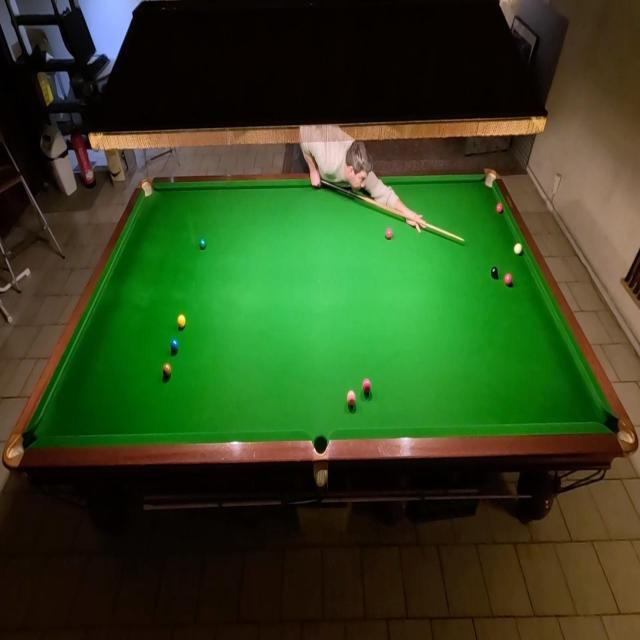Ball: (161, 361, 173, 381), (169, 336, 180, 356), (346, 388, 356, 409), (362, 376, 372, 396), (176, 312, 186, 330), (514, 242, 524, 258), (198, 237, 208, 252), (490, 266, 500, 280), (504, 272, 512, 288), (496, 201, 504, 216), (385, 227, 393, 240)
Pocket: (6, 427, 39, 467), (603, 414, 636, 452), (312, 434, 328, 457), (482, 171, 498, 190), (141, 180, 155, 199)
